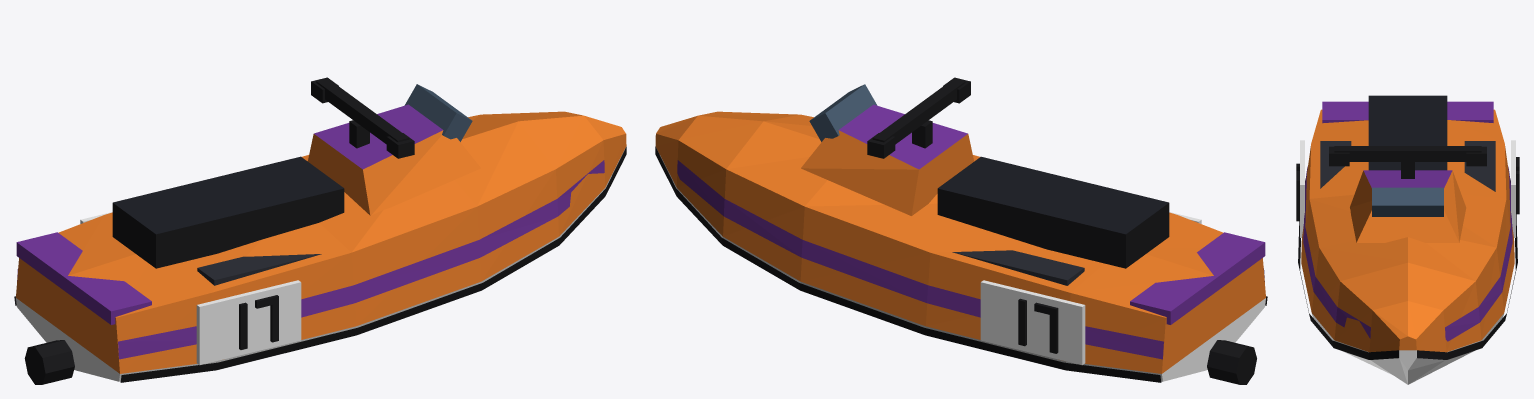
Rendered from jetski_atardecer_body.obj.
3 renders of one model, left to right at view 1: azimuth 30°, elevation 25°; view 2: azimuth 150°, elevation 25°; view 3: azimuth 270°, elevation 25°, orthographic. The views are drawn at different scales.
Parts seen in each view (by area): view 1: jetski_atardecer_body; view 2: jetski_atardecer_body; view 3: jetski_atardecer_body.
Boxes of the visible parts, box(x1,y1,x2,y2) form: jetski_atardecer_body: box(14, 77, 626, 384); jetski_atardecer_body: box(655, 77, 1267, 384); jetski_atardecer_body: box(1296, 95, 1519, 384).
Bounding box in the file's own units: 3.58 × 1.85 × 1.3.
